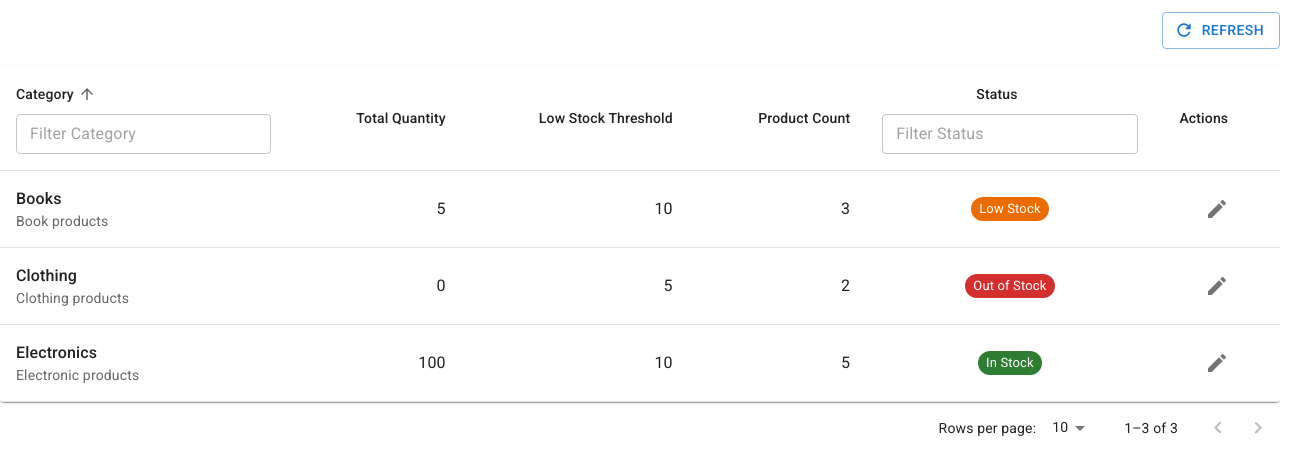
CategoryInventoryTable › sorting and filtering › should allow sorting by category name
The width and height of the screenshot is (1292, 453).
What coordinates should you click on to do the following:
click the button "Category"
I would click on:
 (58, 94)
Its box is left=16, top=82, right=100, bottom=106.
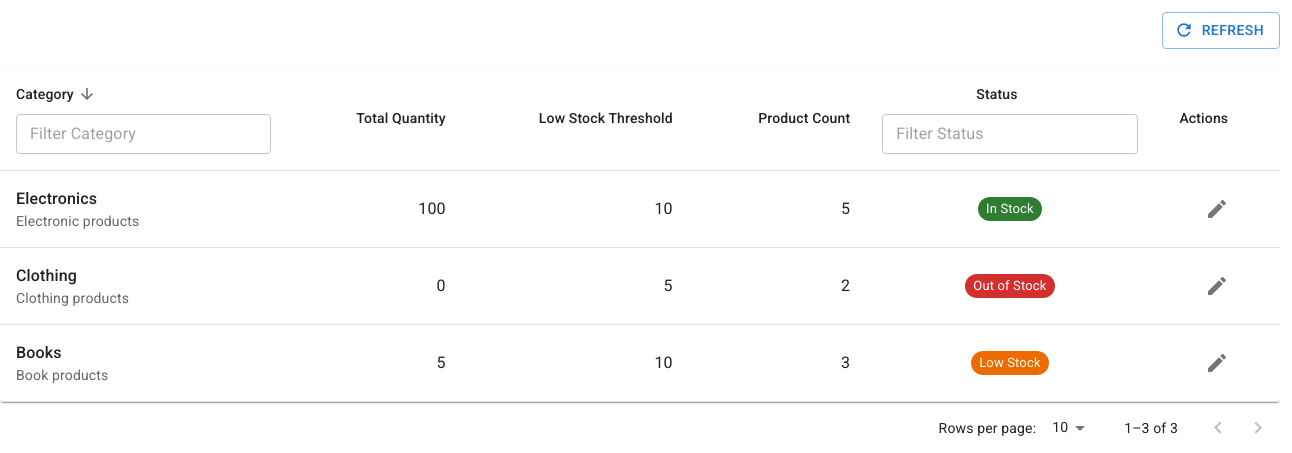
Now the cell "Electronics Electronic products" is shown, box left=0, top=170, right=287, bottom=247
